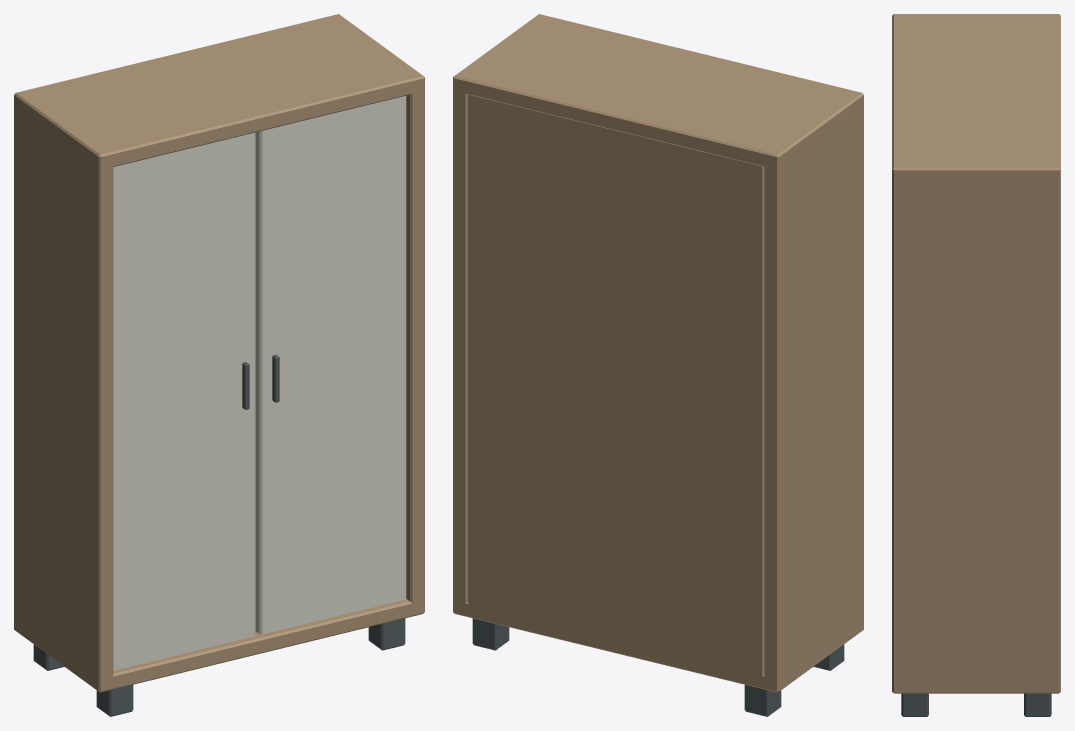
File: wardrobe.fbx
3 renders of one model, left to right at view 1: azimuth 30°, elevation 25°; view 2: azimuth 150°, elevation 25°; view 3: azimuth 270°, elevation 25°, orthographic. The views are drawn at different scales.
Parts seen in each view (by area): view 1: wardrobe; view 2: wardrobe; view 3: wardrobe.
Boxes of the visible parts, <box> form: wardrobe: <box>14,14,424,716</box>; wardrobe: <box>453,14,863,716</box>; wardrobe: <box>892,14,1060,716</box>.
Bounding box in the file's own units: 1.2 × 2 × 0.55.
